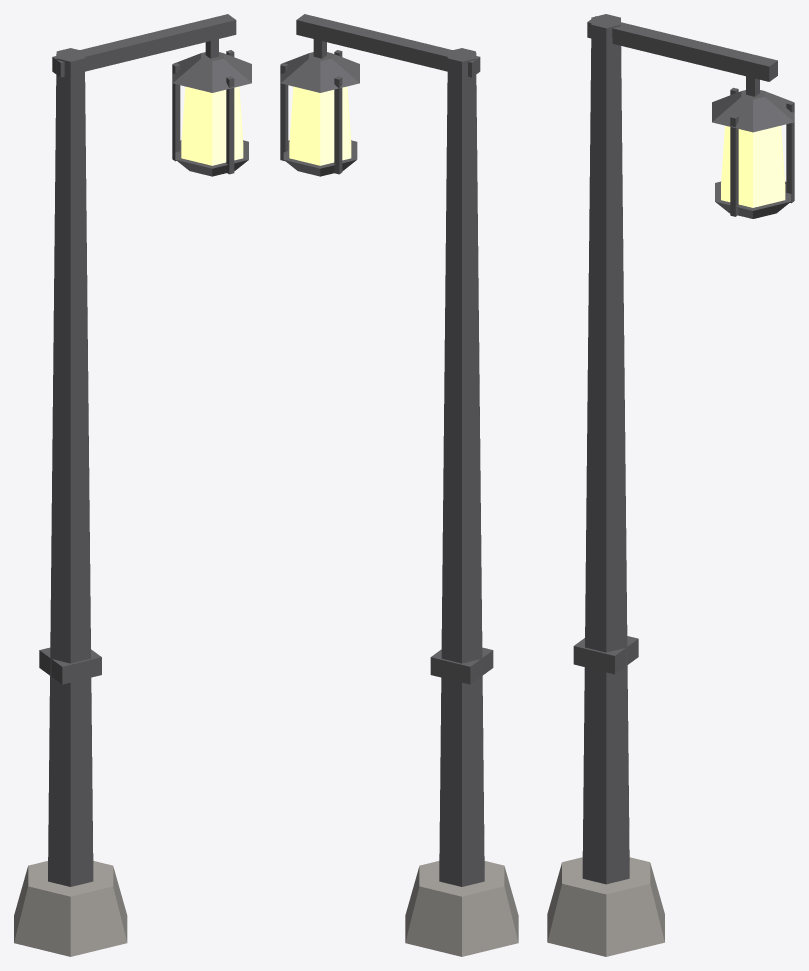
Rendered from farola.glb.
3 views of the same model, side by side, from view 1: azimuth 30°, elevation 25°; view 2: azimuth 150°, elevation 25°; view 3: azimuth 330°, elevation 25° (orthographic). The views are drawn at different scales.
Visible parts, largest first — view 1: FG_Farola, FG_Farola_Farol; view 2: FG_Farola, FG_Farola_Farol; view 3: FG_Farola, FG_Farola_Farol.
Boxes of the visible parts, bbox=[...] form: FG_Farola: bbox=[14, 14, 236, 956]; FG_Farola_Farol: bbox=[172, 50, 251, 176]; FG_Farola: bbox=[296, 14, 518, 956]; FG_Farola_Farol: bbox=[280, 50, 359, 176]; FG_Farola: bbox=[547, 14, 777, 956]; FG_Farola_Farol: bbox=[712, 87, 794, 218].
Bounding box in the file's own units: 0.84 × 2.95 × 0.3464.
